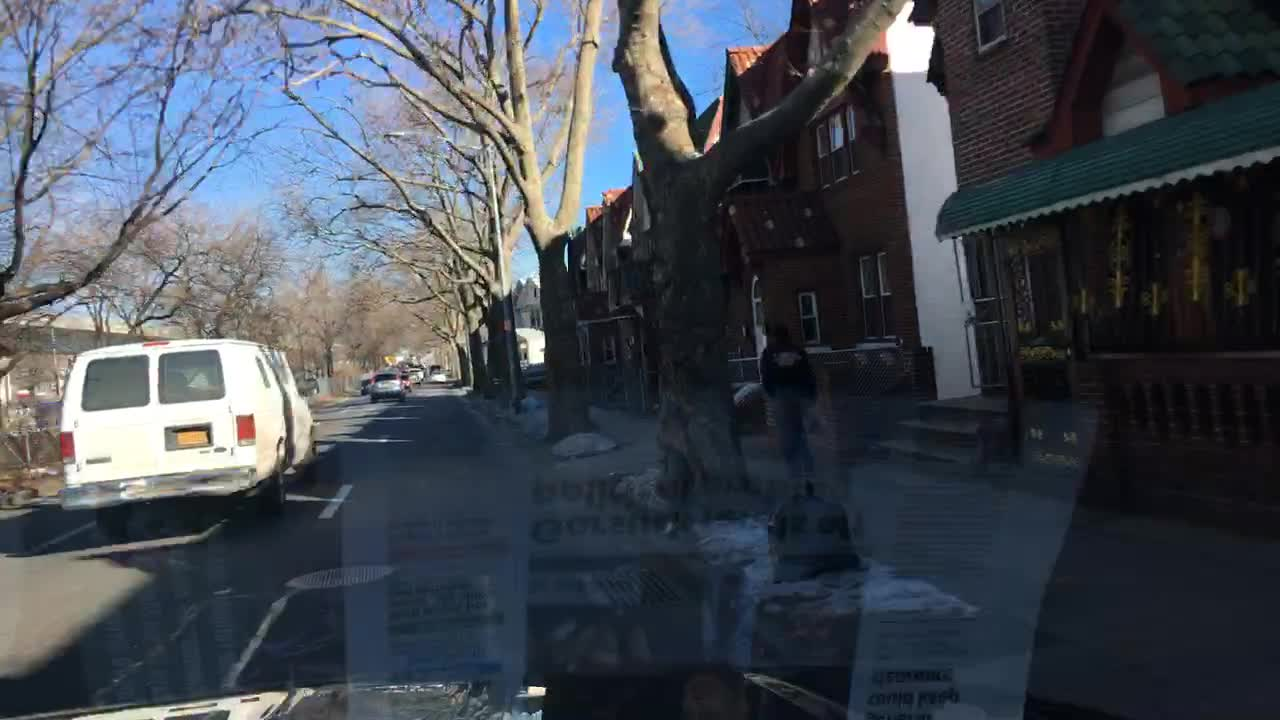car: (56, 337, 324, 533), (370, 372, 409, 403), (292, 368, 319, 400), (522, 362, 553, 386), (431, 366, 452, 382), (408, 364, 422, 382), (359, 376, 371, 393), (424, 365, 436, 377)
person: (757, 323, 818, 497)
